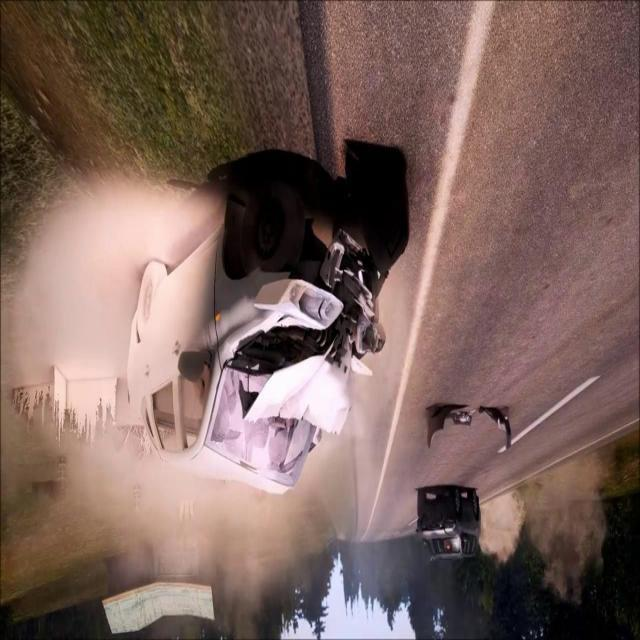severe: (120, 165, 390, 500)
